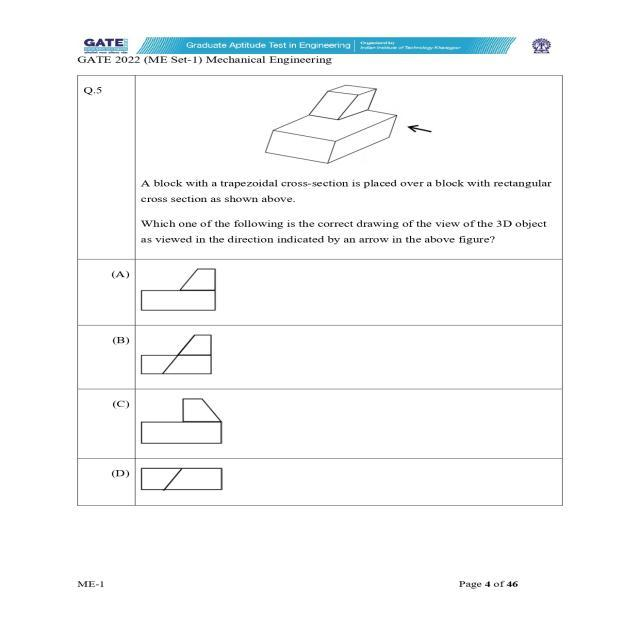Answer_Block: (49, 257, 588, 518)
Question_Answer_Block: (49, 72, 588, 518)
Question_Block: (49, 72, 588, 258)
Question_Paper_Area: (49, 72, 588, 518)
